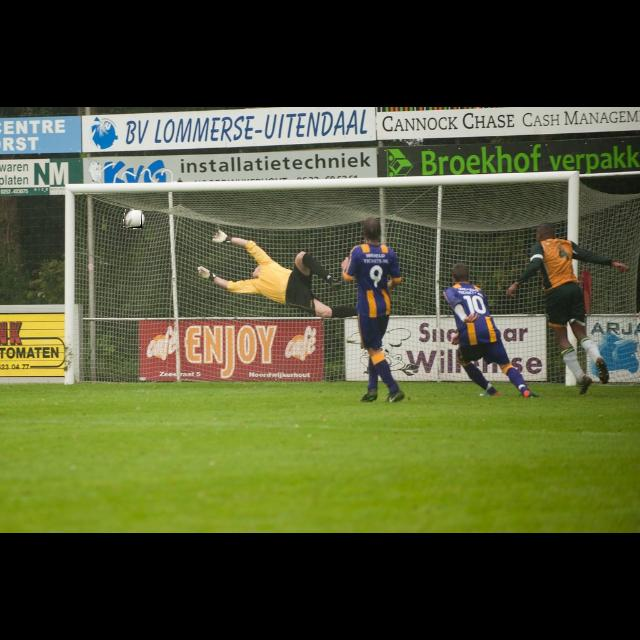Football: (124, 210, 142, 228)
